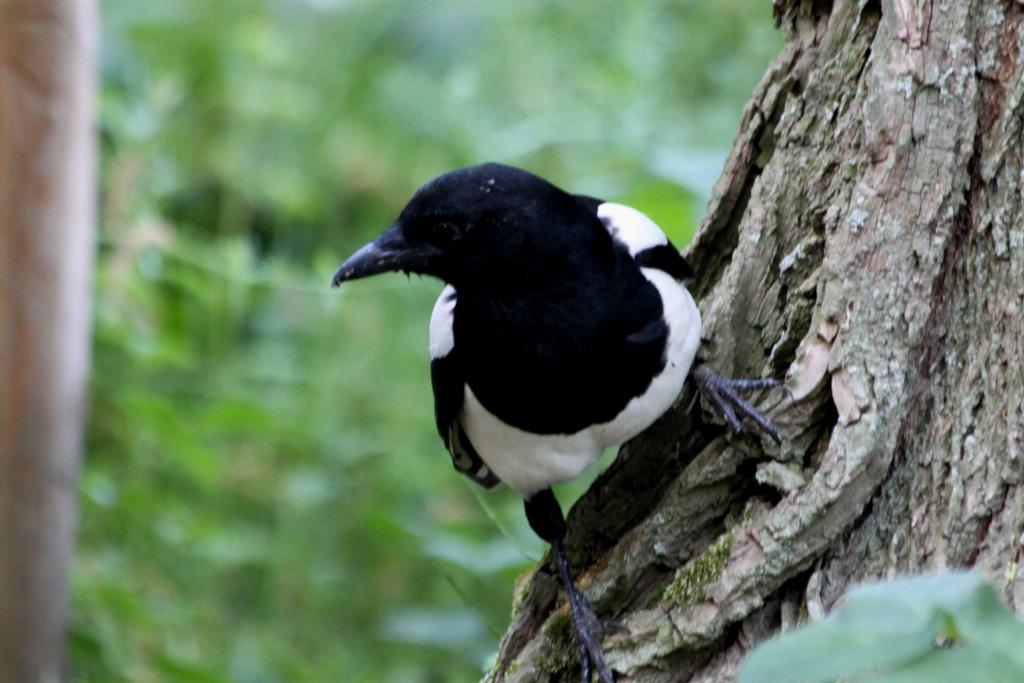PicaPica: (330, 162, 795, 683)
